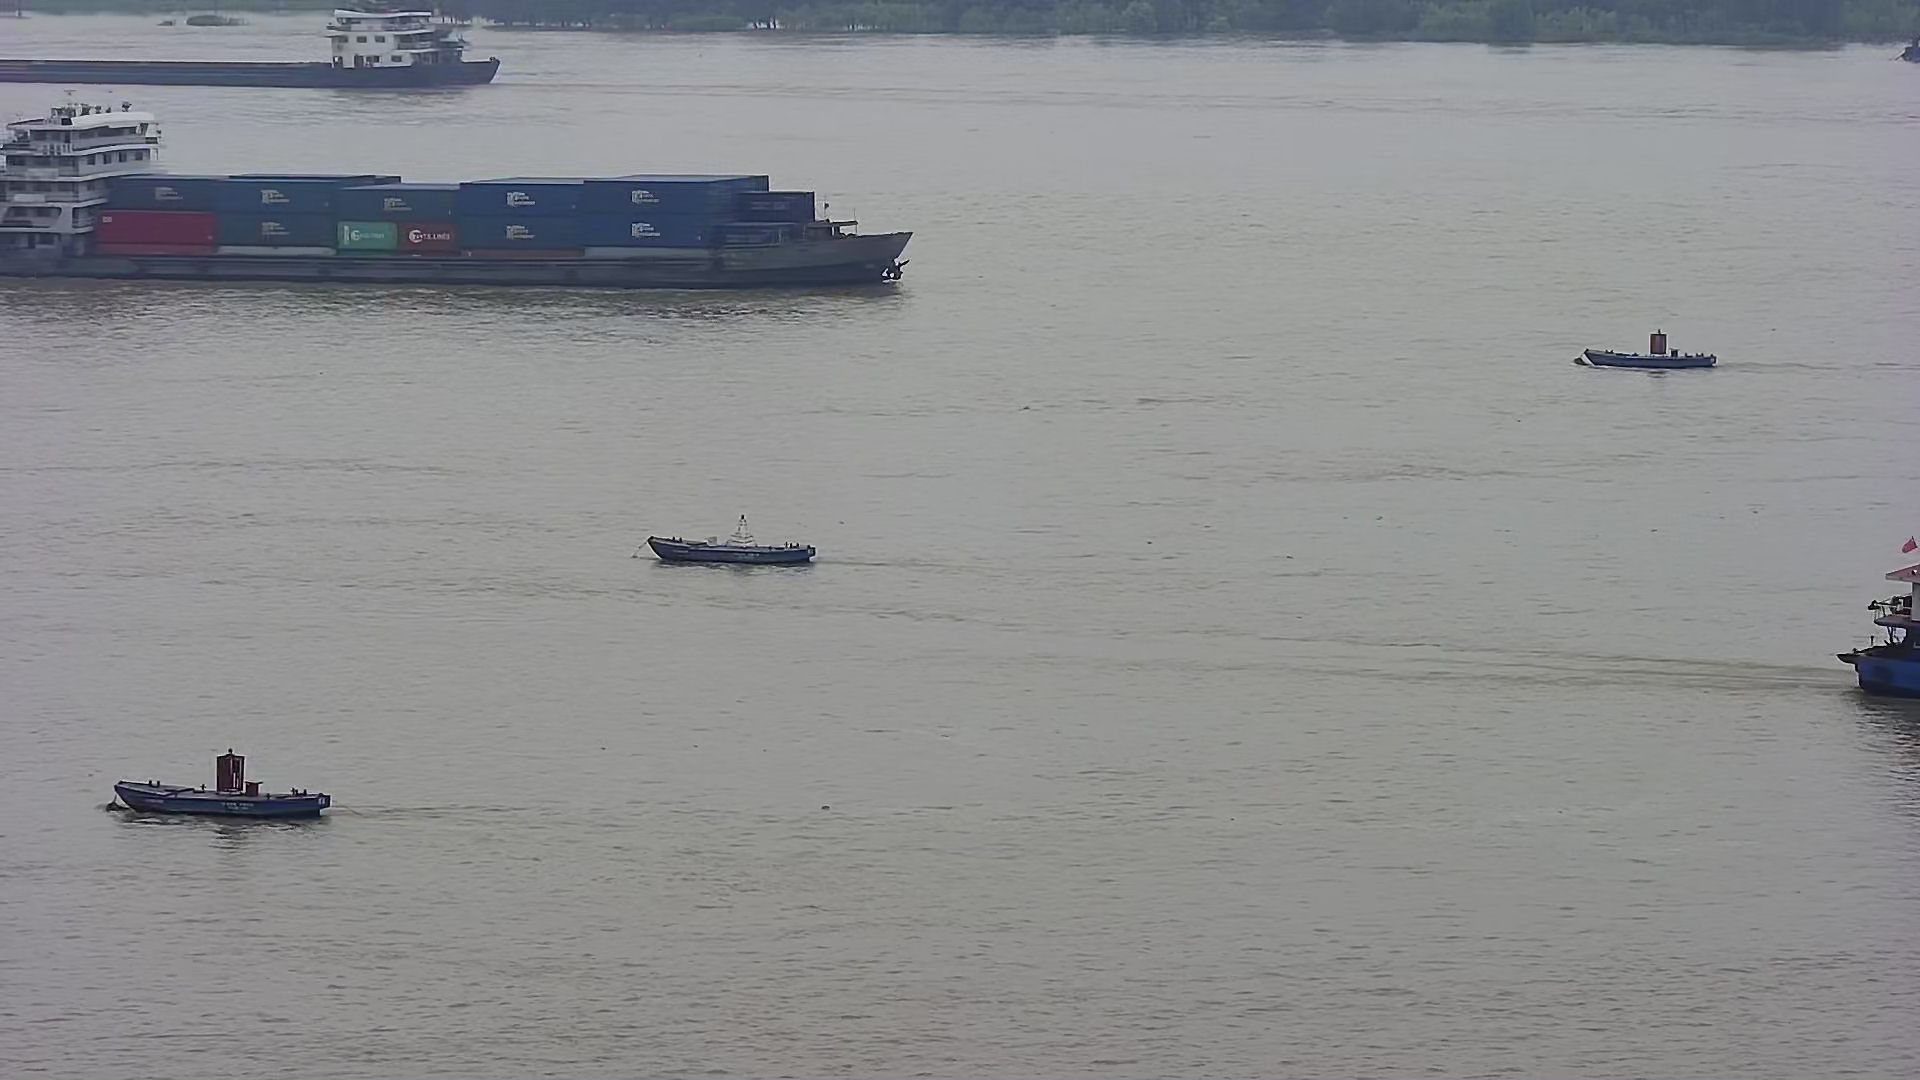boat: (115, 741, 339, 829), (637, 506, 824, 579), (1563, 324, 1729, 375)
ship: (1, 91, 940, 294), (1, 1, 545, 90)
